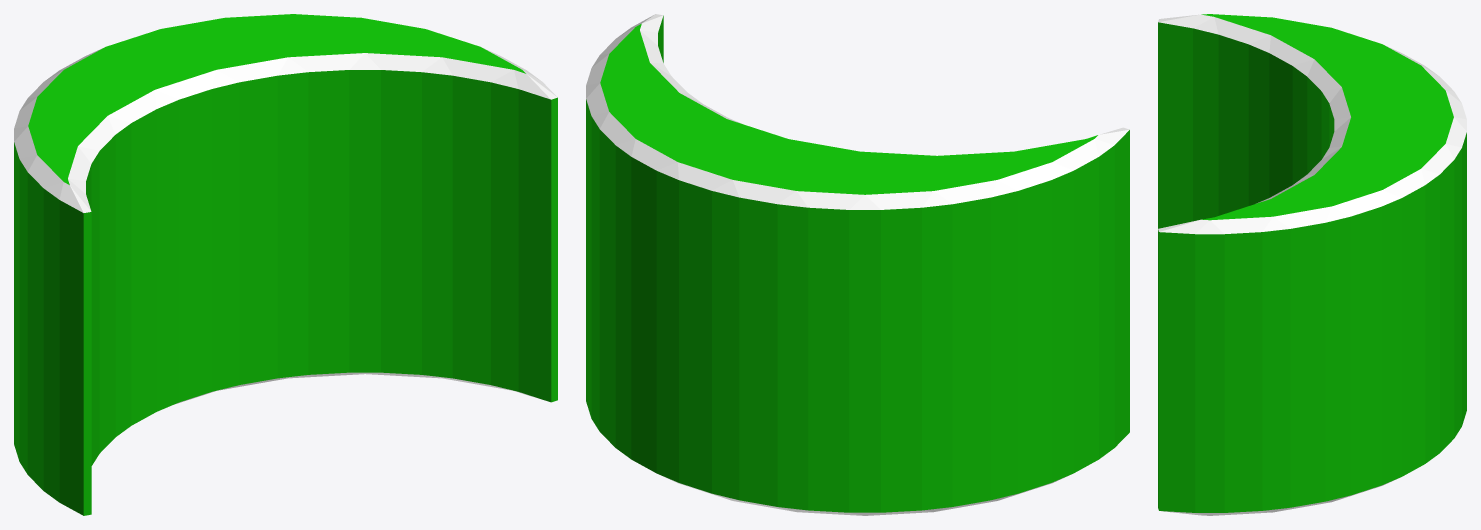
The model's file is MoonLikeObject.fbx.
The picture shows the model from 3 angles, left to right: view 1: azimuth 30°, elevation 25°; view 2: azimuth 150°, elevation 25°; view 3: azimuth 270°, elevation 25°; orthographic projection. The views are drawn at different scales.
Visible parts, largest first — view 1: Cube; view 2: Cube; view 3: Cube.
Boxes of the visible parts, x1,y1,x2,y2 form: Cube: (14,14,557,515); Cube: (586,14,1129,515); Cube: (1158,14,1466,515).
Bounding box in the file's own units: 1.58 × 1 × 0.9468.
